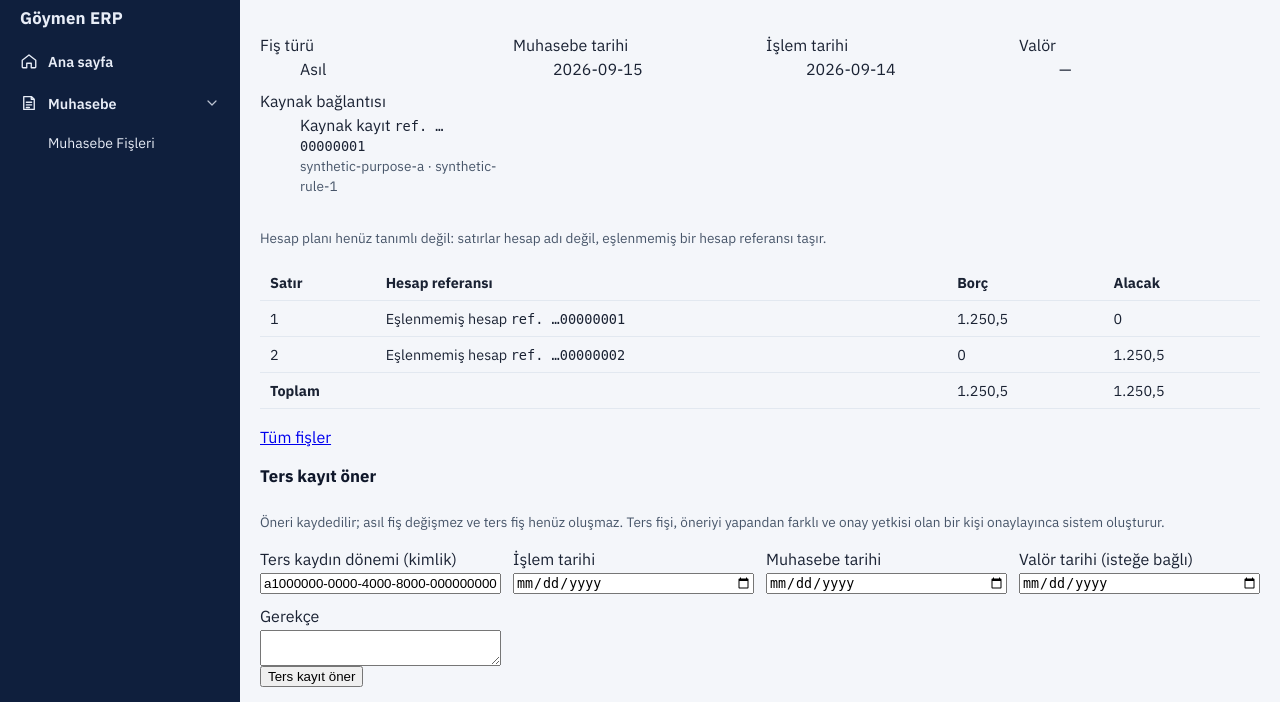
Test: reversal proposal on the journal detail › stores one pending proposal for this journal and says the original is unchanged
(page scrolled)
Expected: the heading "Ters kayıt öner" is shown, [260,465,376,487]
Type "2026-09-23" into the date field labelled "İşlem tarihi".
click(634, 584); type("2026-09-23")  # box [513,573,754,594]
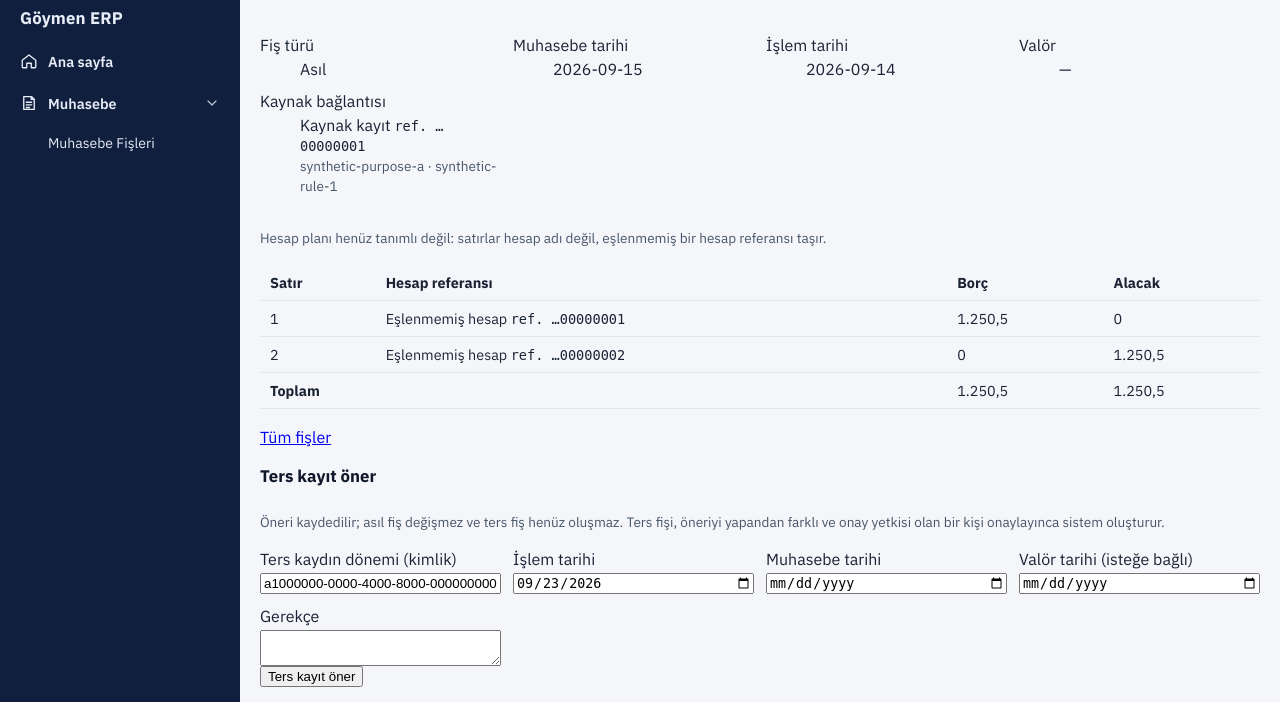
Type "2026-09-24" into the date field labelled "Muhasebe tarihi".
click(886, 584); type("2026-09-24")  # box [766,573,1007,594]
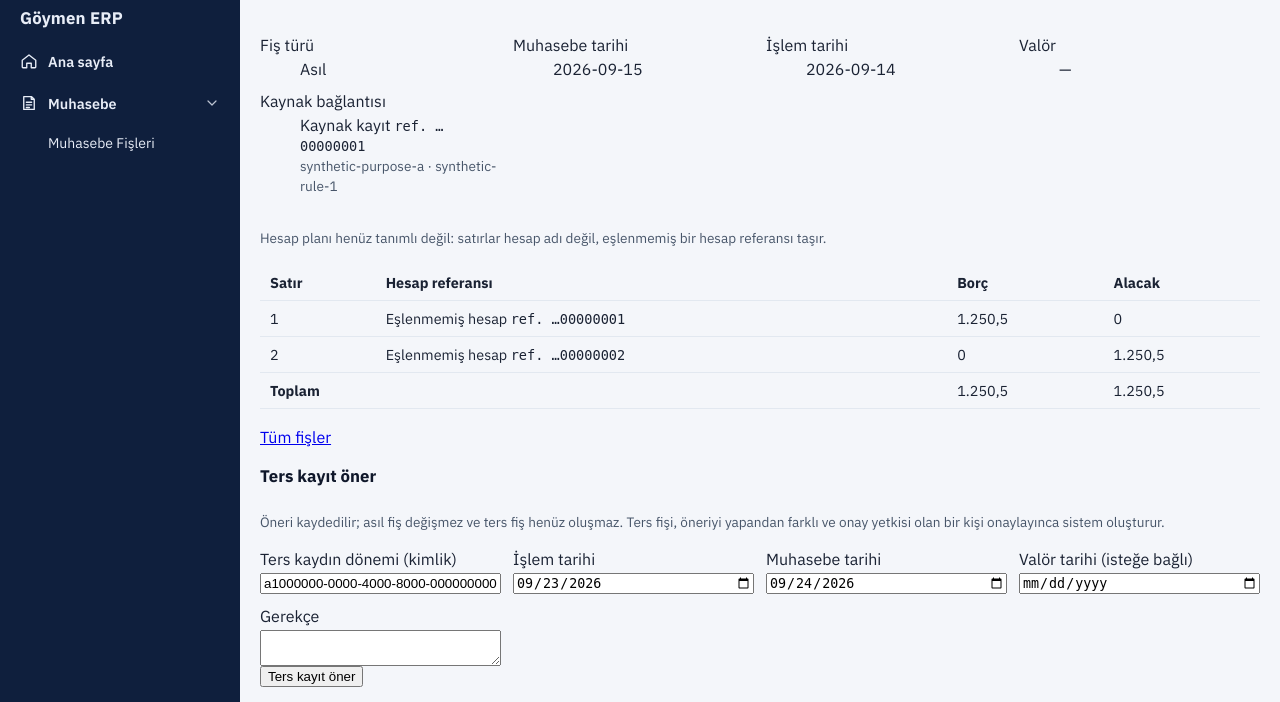
Type "SENTETIK gerekçe" into the text box labelled "Gerekçe".
click(380, 648); type("SENTETIK gerekçe")  # box [260,630,501,666]
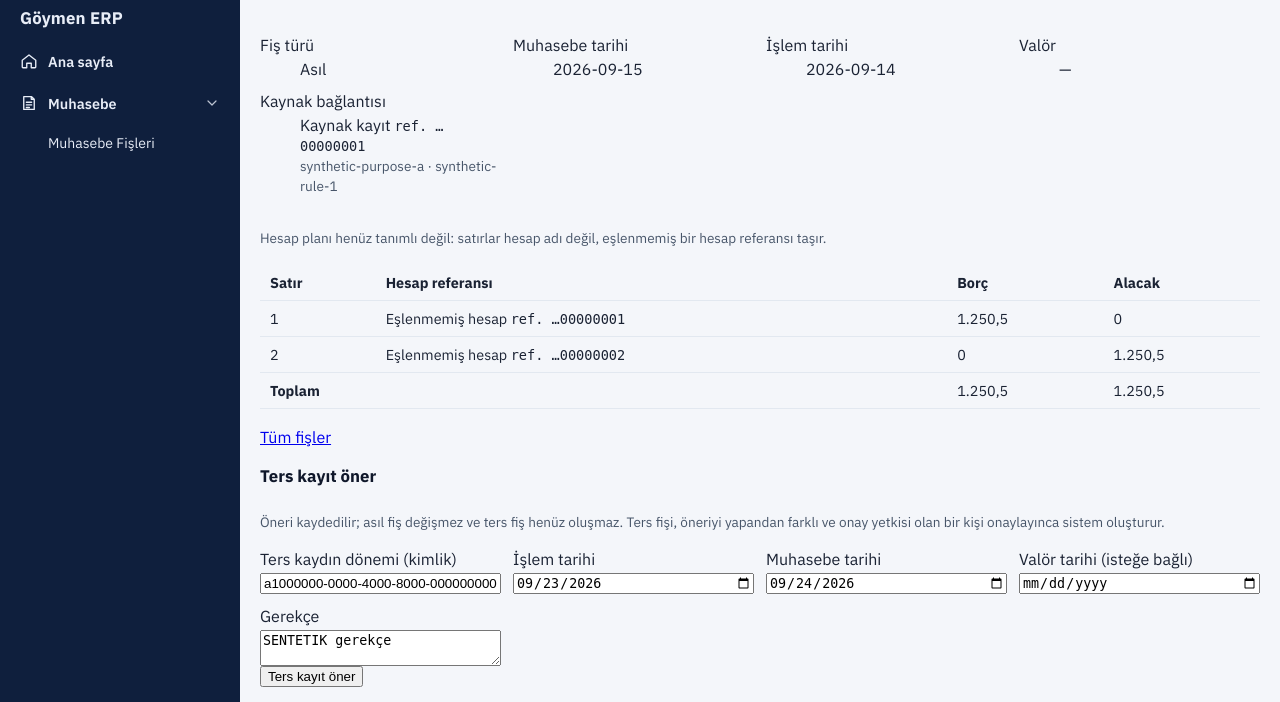
Expected: the field labelled "Ters kaydın dönemi (kimlik)" holds "a1000000-0000-4000-8000-000000000009", [260,573,501,594]
Click the button "Ters kayıt öner".
click(312, 677)  # box [260,666,363,687]
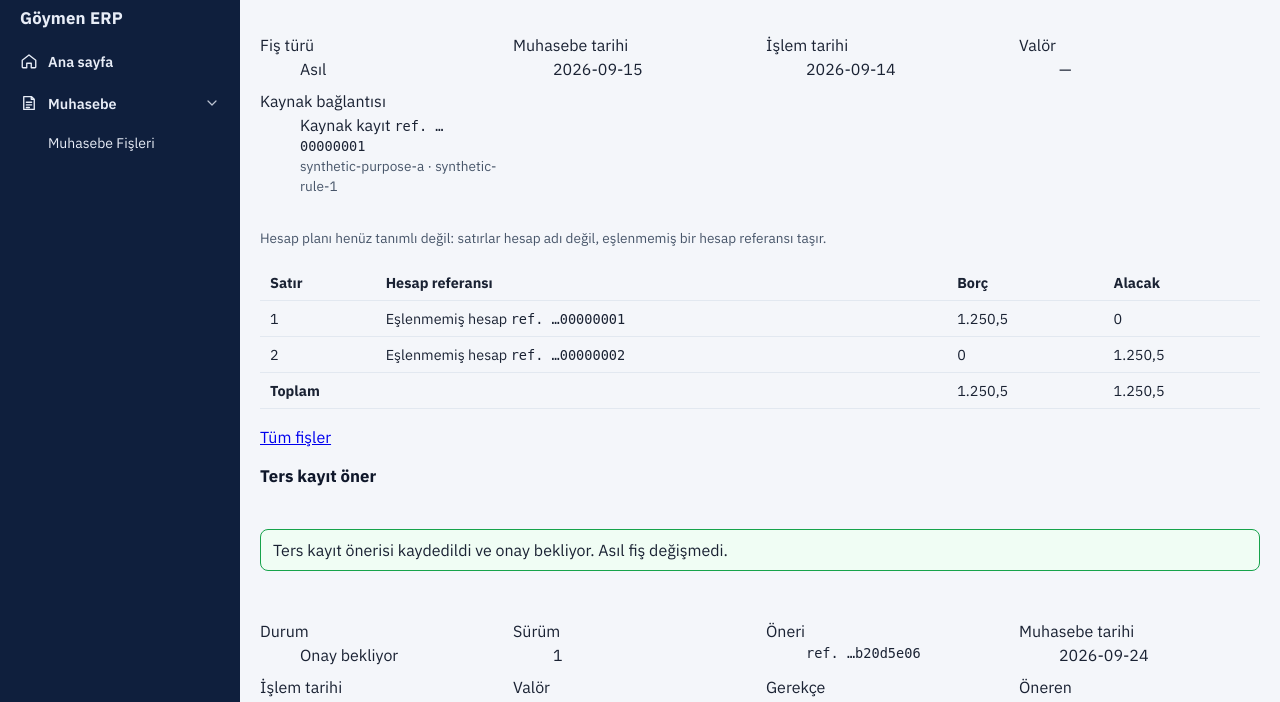
Expected: the text "Ters kayıt önerisi kaydedildi ve onay bekliyor. Asıl fiş değişmedi." is shown, [260,529,1260,571]
Expected: the text "Onay bekliyor" is shown, [300,645,398,665]
